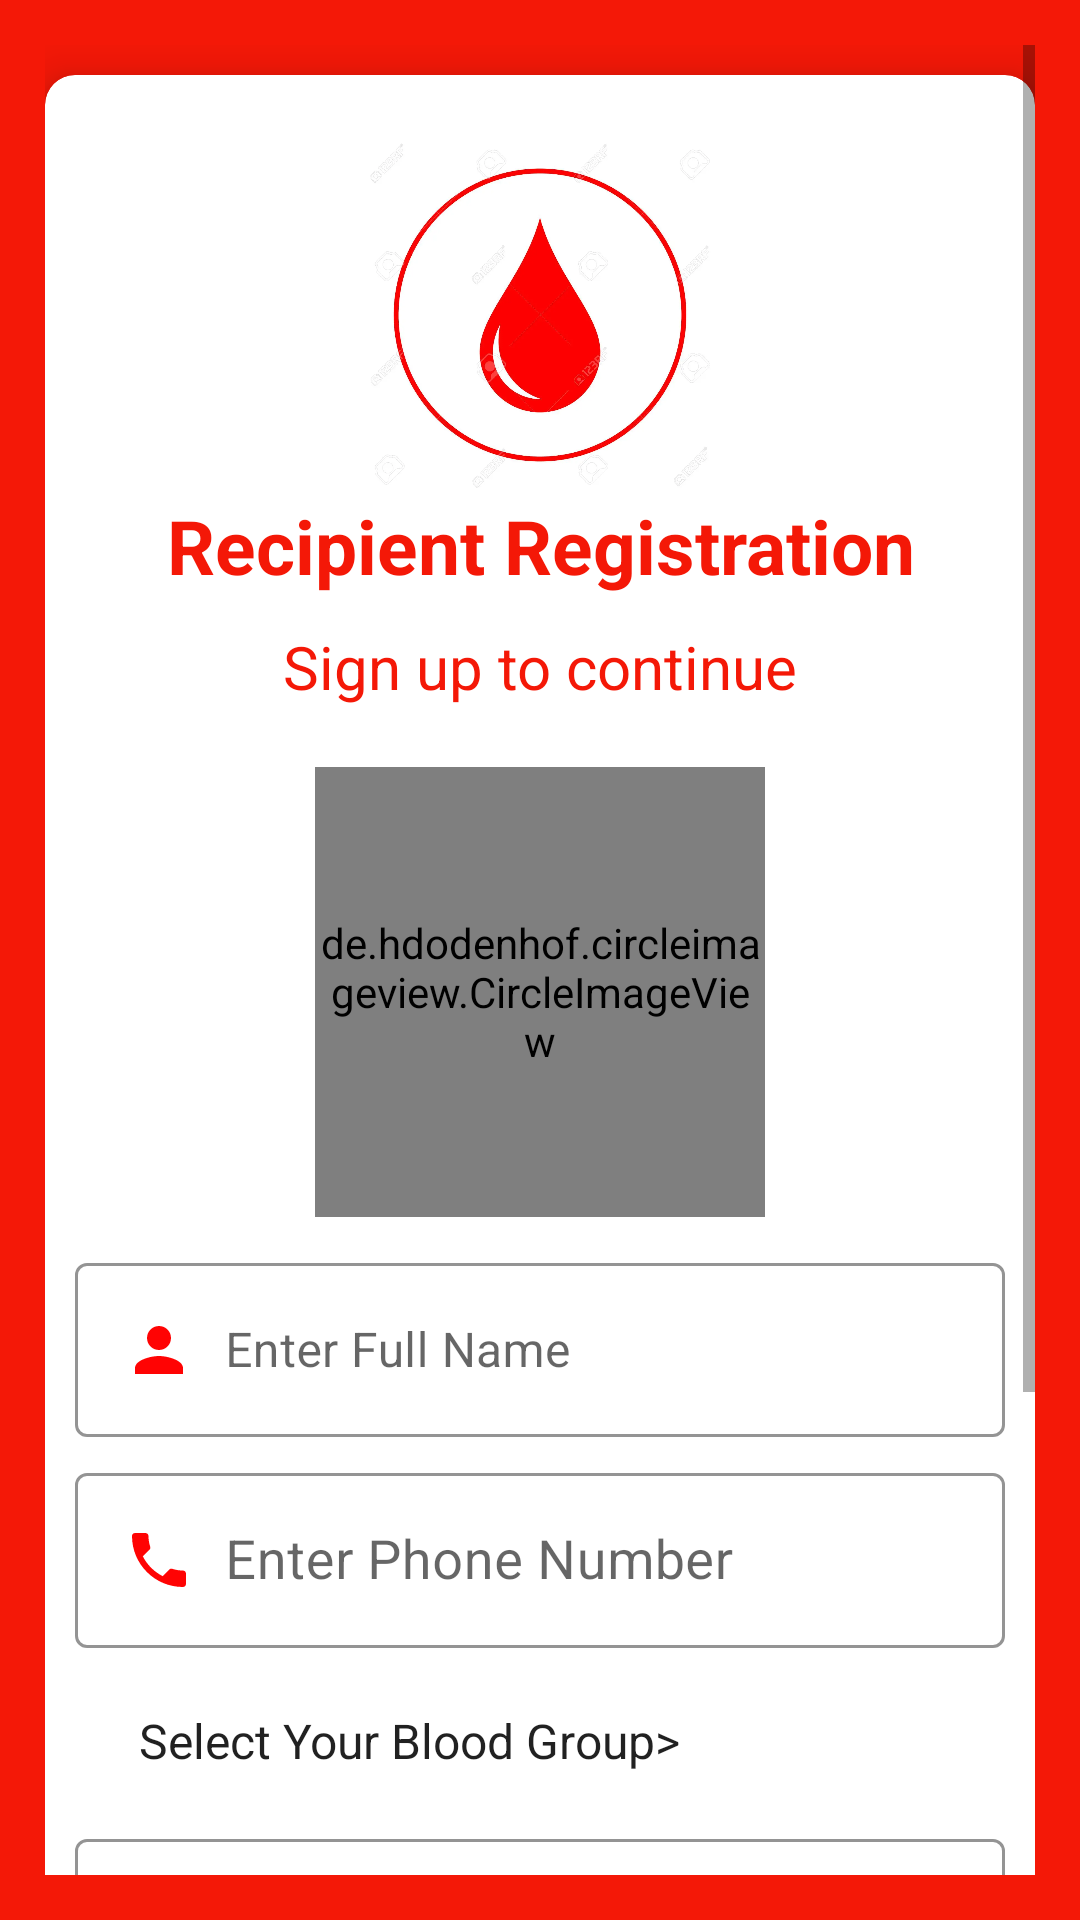

Where icons sit on this 1080*1920 app screen, as {"x1": x1, "y1": y1, "x2": x2, "y2": y2}:
appicon: {"x1": 372, "y1": 145, "x2": 702, "y2": 484}
